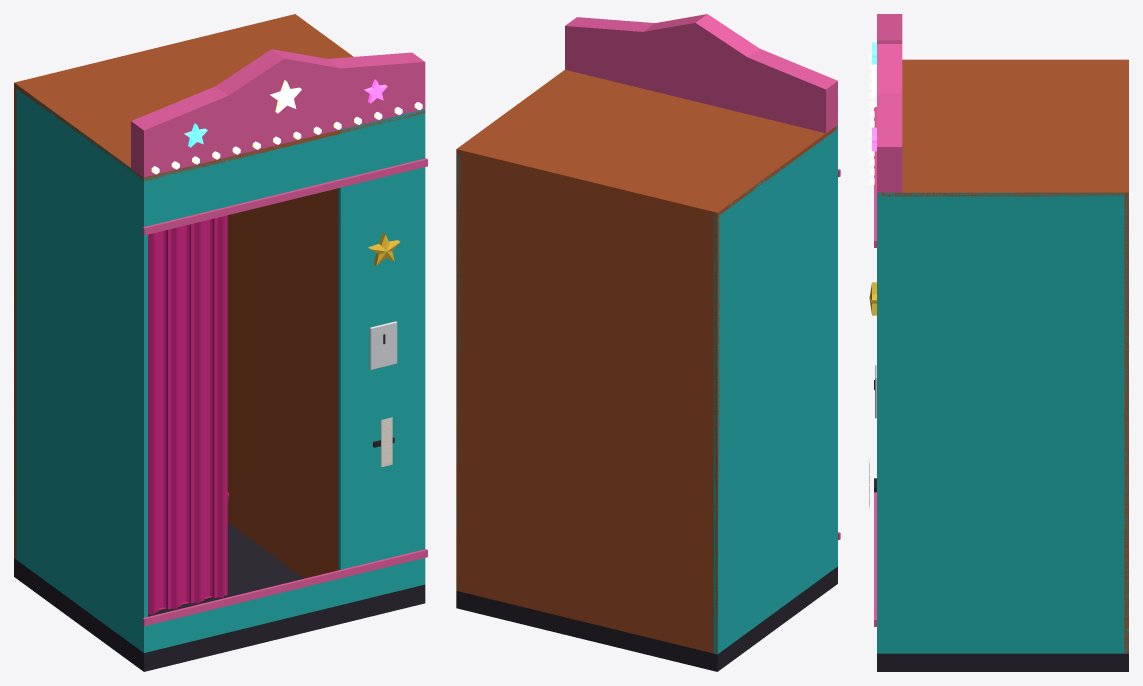
3 views of the same model, side by side, from view 1: azimuth 30°, elevation 25°; view 2: azimuth 150°, elevation 25°; view 3: azimuth 270°, elevation 25° (orthographic). The views are drawn at different scales.
Visible parts, largest first — view 1: side_left, column_inner, column_front, curtain, marquee_board, roof, plinth, valance, kick, trim_high, trim_low, marquee (+3 smaller); view 2: back, side_left, roof, marquee_board, plinth; view 3: side_right, roof, plinth, marquee_board, back, column_front, marquee, trim_low.
Part boxes in pixels (left/top/right/bottom): side_left: left=14, top=88, right=147, bottom=650; column_inner: left=227, top=188, right=338, bottom=578; column_front: left=338, top=109, right=425, bottom=604; curtain: left=148, top=215, right=227, bottom=614; marquee_board: left=131, top=49, right=425, bottom=177; roof: left=14, top=14, right=425, bottom=181; plinth: left=14, top=522, right=425, bottom=671; valance: left=141, top=130, right=340, bottom=226; kick: left=141, top=578, right=340, bottom=652; trim_high: left=143, top=158, right=427, bottom=235; trim_low: left=143, top=549, right=427, bottom=626; marquee: left=151, top=79, right=422, bottom=174; back: left=456, top=149, right=719, bottom=654; side_left: left=713, top=130, right=837, bottom=654; roof: left=456, top=69, right=837, bottom=216; marquee_board: left=565, top=14, right=837, bottom=133; plinth: left=456, top=566, right=837, bottom=671; side_right: left=877, top=192, right=1128, bottom=653; roof: left=877, top=59, right=1128, bottom=196; plinth: left=877, top=653, right=1128, bottom=671; marquee_board: left=877, top=14, right=902, bottom=192; back: left=1124, top=134, right=1128, bottom=653; column_front: left=877, top=192, right=881, bottom=653; marquee: left=869, top=42, right=876, bottom=184; trim_low: left=874, top=492, right=876, bottom=626.
Bounding box in the file's own units: 1.26 × 2.46 × 1.03.
